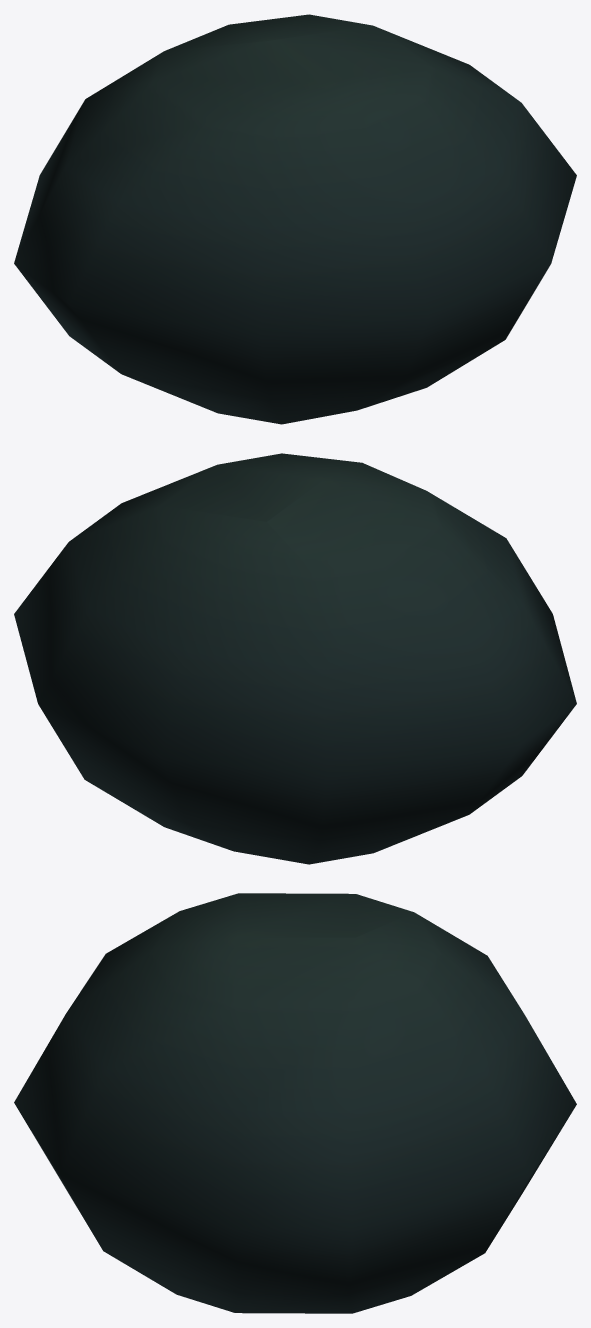
The model's file is nuggets_coal_2.fbx.
3 renders of one model, top to bottom at view 1: azimuth 30°, elevation 25°; view 2: azimuth 150°, elevation 25°; view 3: azimuth 270°, elevation 25°, orthographic. The views are drawn at different scales.
Visible parts, largest first — view 1: nuggets_coal_2; view 2: nuggets_coal_2; view 3: nuggets_coal_2.
Boxes of the visible parts, bbox=[...] form: nuggets_coal_2: bbox=[14, 14, 576, 424]; nuggets_coal_2: bbox=[14, 453, 576, 864]; nuggets_coal_2: bbox=[14, 893, 576, 1313].
Size of the model in its own units: 62.93 by 37.46 by 57.54.
1 material, 1 textured.
